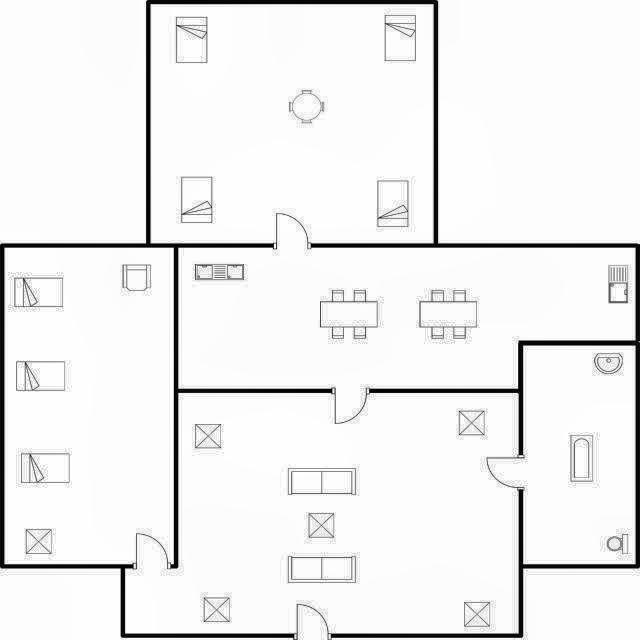room: (125, 393, 519, 634), (151, 5, 434, 244), (178, 247, 636, 389), (5, 248, 173, 564), (523, 346, 636, 564)
